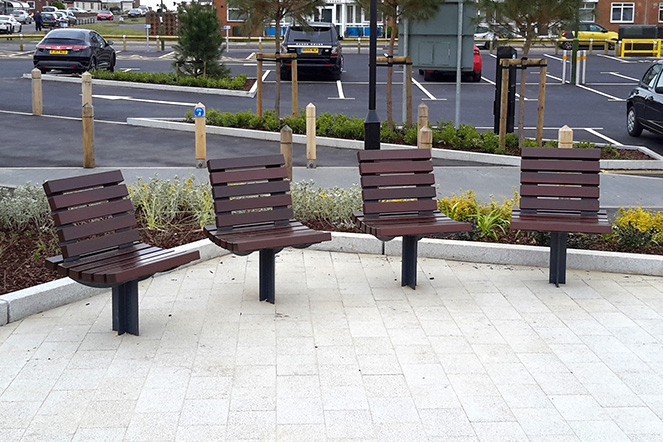Car: (30, 27, 124, 81), (281, 21, 351, 85), (553, 18, 622, 55)
Chair: (34, 169, 196, 339), (198, 157, 333, 308), (511, 136, 620, 295), (356, 148, 471, 293)
